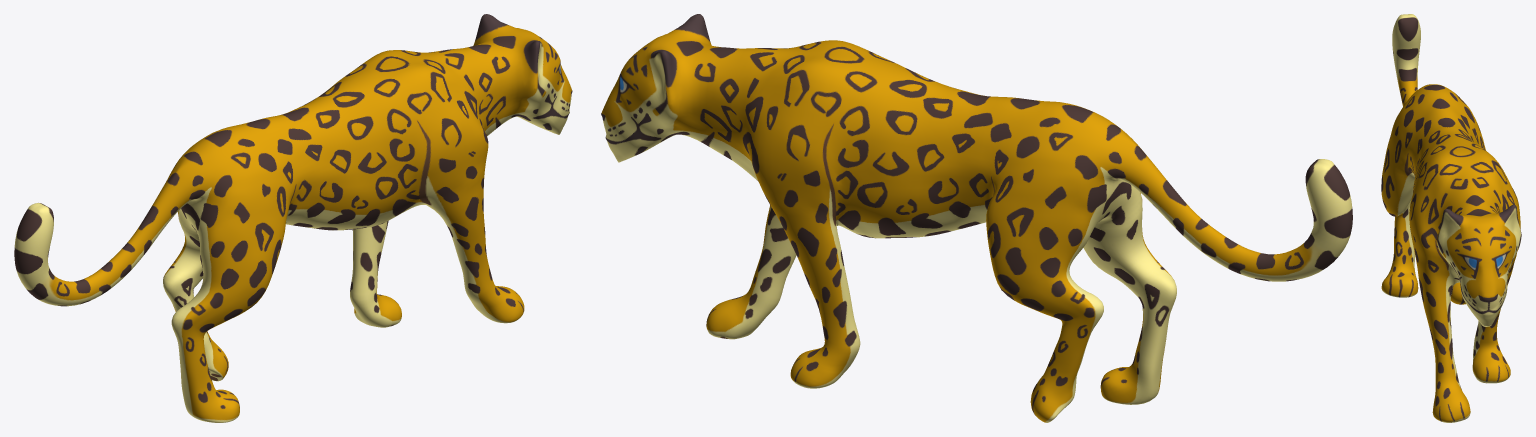
Rendered from jaguar.fbx.
3 renders of one model, left to right at view 1: azimuth 30°, elevation 25°; view 2: azimuth 150°, elevation 25°; view 3: azimuth 270°, elevation 25°, orthographic. The views are drawn at different scales.
Visible parts, largest first — view 1: node_id30; view 2: node_id30; view 3: node_id30.
Boxes of the visible parts, x1=… form: node_id30: x1=14, y1=14, x2=572, y2=422; node_id30: x1=601, y1=14, x2=1352, y2=422; node_id30: x1=1381, y1=14, x2=1521, y2=422.
Size of the model in its own units: 0.5412 by 0.2351 by 0.132.
1 material, 1 textured.
